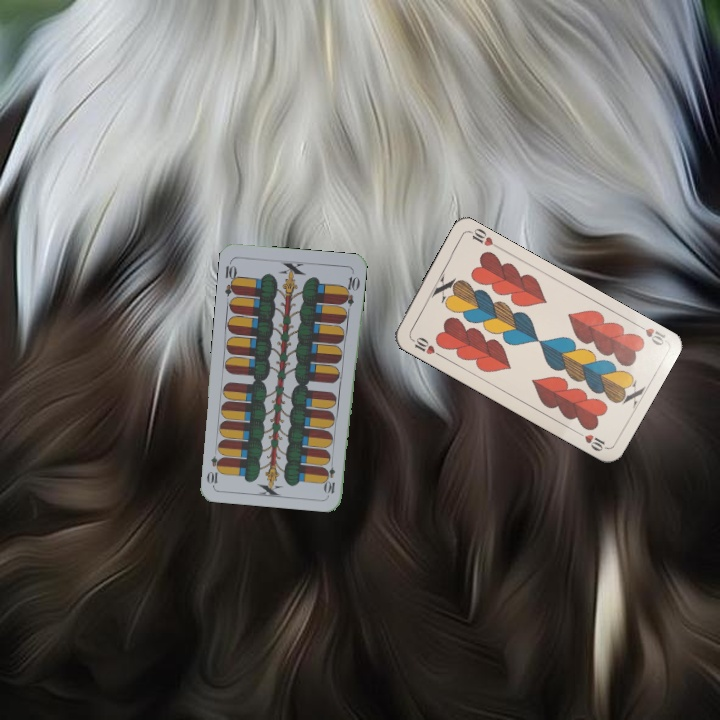E10: (221, 257, 240, 298), (323, 455, 338, 496)
H10: (631, 319, 668, 348), (406, 333, 444, 359)
